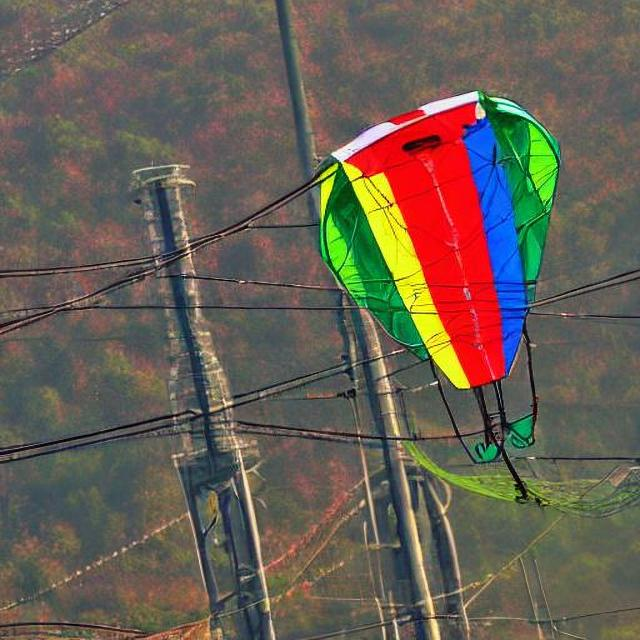floating object: (311, 94, 562, 394)
